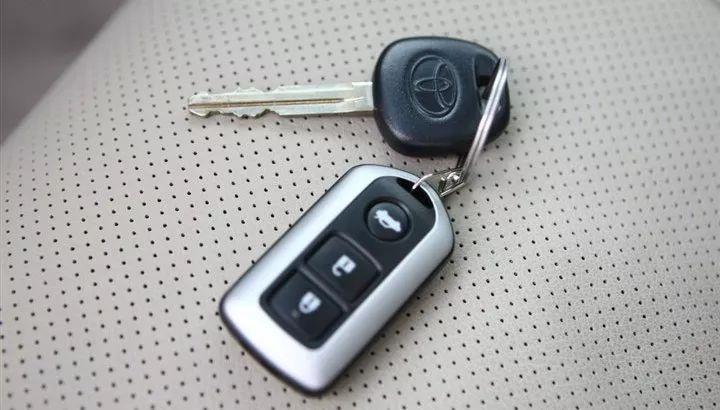key: (175, 31, 523, 160)
